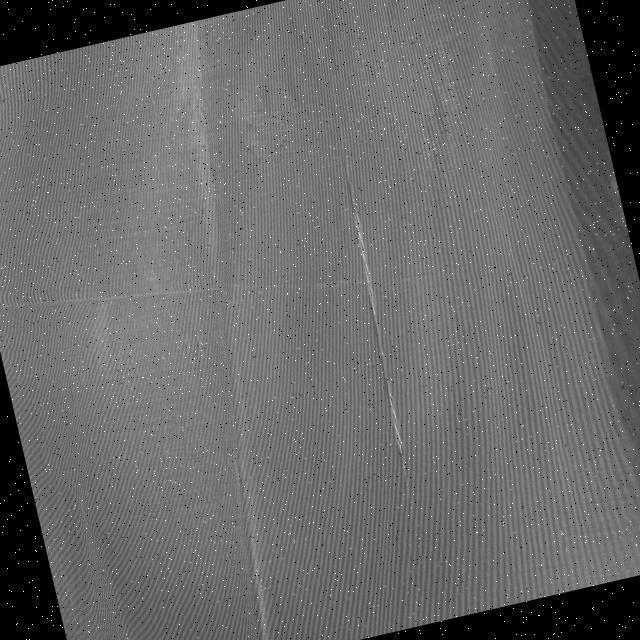pulled_or_thick_thread: (339, 136, 406, 496)
